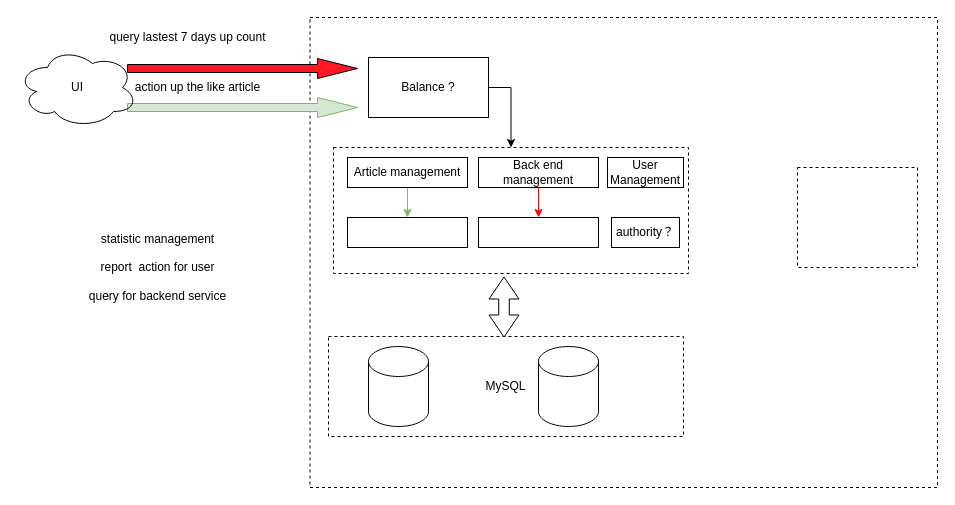
Image size: 955x505. Some labels were removed from this diagram. Here are the shapes that lost their labels. From the top down, the centre of each, then its label:
the point at 407,232: Actions:CRUD
the point at 538,232: Static: audit / report
the point at 857,217: HA?
